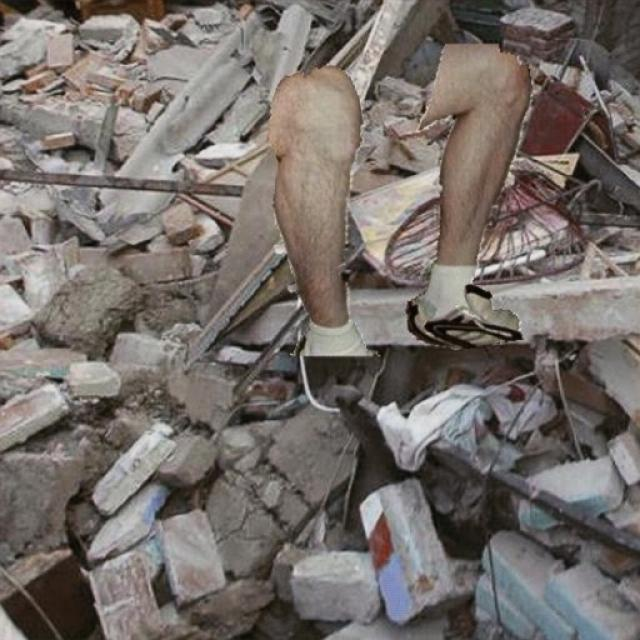Person in Rubble: (268, 44, 532, 355)
